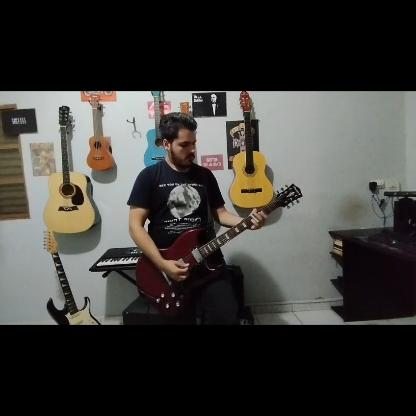acousticguitar: (45, 104, 97, 234), (228, 92, 272, 210), (144, 93, 168, 167)
guitar: (135, 185, 297, 317), (43, 228, 102, 326)
